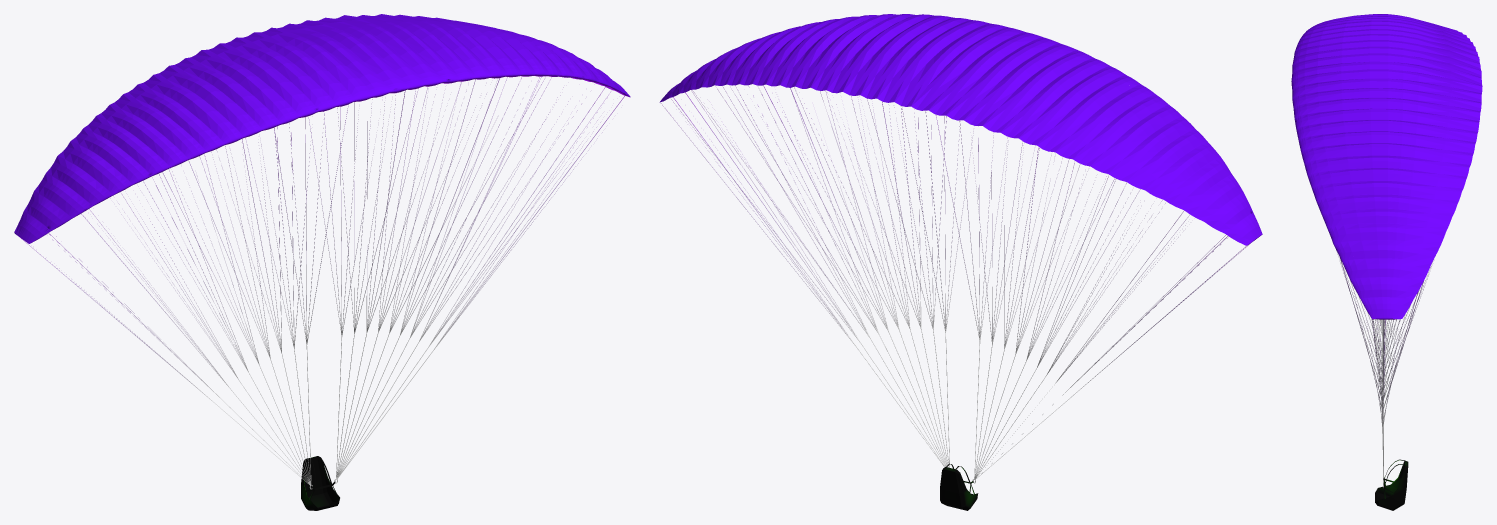
File: paraglider.glb
3 views of the same model, side by side, from view 1: azimuth 30°, elevation 25°; view 2: azimuth 150°, elevation 25°; view 3: azimuth 270°, elevation 25° (orthographic). The views are drawn at different scales.
Parts seen in each view (by area): view 1: Wing, Lines, Harness; view 2: Wing, Lines, Harness; view 3: Wing, Lines, Harness.
Boxes of the visible parts, box(x1,y1,x2,y2) form: Wing: box(14, 14, 630, 243); Lines: box(21, 77, 624, 489); Harness: box(301, 456, 339, 510); Wing: box(659, 14, 1262, 245); Lines: box(661, 85, 1249, 483); Harness: box(940, 463, 978, 510); Wing: box(1291, 14, 1482, 319); Lines: box(1336, 250, 1432, 487); Harness: box(1375, 459, 1408, 510).
Size of the model in its own units: 311 by 230 by 90.47.
2 materials, 2 textured.
